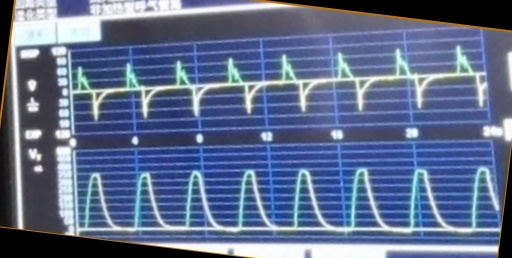Accumulation Flow: (74, 43, 486, 123)
Volume: (81, 161, 498, 236)
